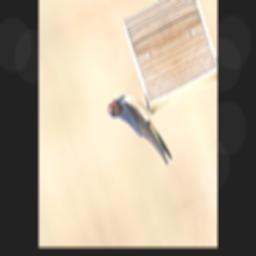Swallow: (103, 78, 188, 211)
